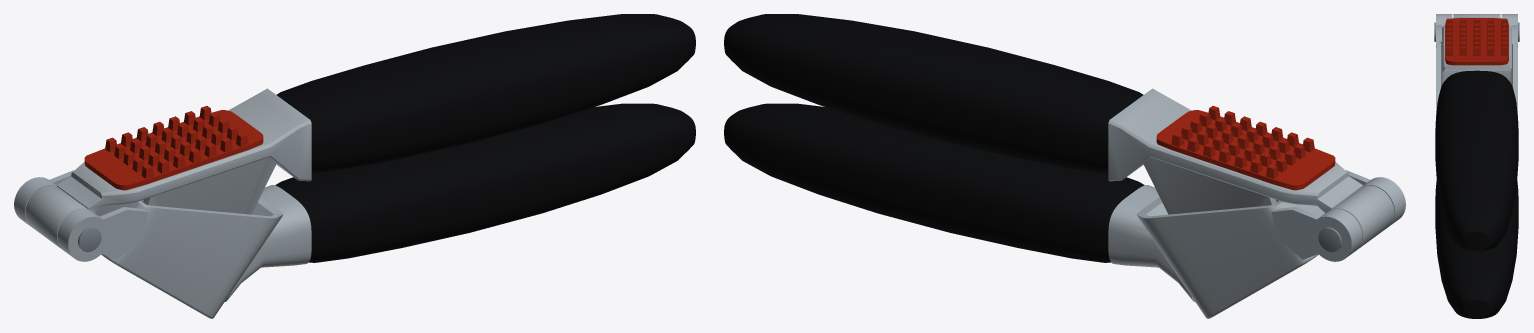
3 views of the same model, side by side, from view 1: azimuth 30°, elevation 25°; view 2: azimuth 150°, elevation 25°; view 3: azimuth 270°, elevation 25° (orthographic). The views are drawn at different scales.
Visible parts, largest first — view 1: part_000_Upper_grip_sleeve, part_003_Lower_grip_sleeve, part_005_Chamber_arm, part_001_Plunger_arm, part_004_Cleaner_plate_and_pegs; view 2: part_000_Upper_grip_sleeve, part_003_Lower_grip_sleeve, part_005_Chamber_arm, part_001_Plunger_arm, part_004_Cleaner_plate_and_pegs; view 3: part_000_Upper_grip_sleeve, part_003_Lower_grip_sleeve, part_004_Cleaner_plate_and_pegs, part_005_Chamber_arm, part_001_Plunger_arm, part_002_Pivot_pin.
Boxes of the visible parts, left/top/right/bottom form: part_000_Upper_grip_sleeve: left=276, top=14, right=695, bottom=173; part_003_Lower_grip_sleeve: left=275, top=103, right=695, bottom=262; part_005_Chamber_arm: left=14, top=170, right=311, bottom=318; part_001_Plunger_arm: left=25, top=88, right=311, bottom=248; part_004_Cleaner_plate_and_pegs: left=84, top=106, right=263, bottom=190; part_000_Upper_grip_sleeve: left=724, top=14, right=1143, bottom=173; part_003_Lower_grip_sleeve: left=724, top=103, right=1144, bottom=262; part_005_Chamber_arm: left=1108, top=170, right=1405, bottom=318; part_001_Plunger_arm: left=1108, top=88, right=1394, bottom=248; part_004_Cleaner_plate_and_pegs: left=1156, top=106, right=1335, bottom=190; part_000_Upper_grip_sleeve: left=1435, top=70, right=1518, bottom=251; part_003_Lower_grip_sleeve: left=1435, top=181, right=1518, bottom=318; part_004_Cleaner_plate_and_pegs: left=1445, top=18, right=1508, bottom=65; part_005_Chamber_arm: left=1436, top=14, right=1517, bottom=116; part_001_Plunger_arm: left=1442, top=14, right=1511, bottom=83; part_002_Pivot_pin: left=1434, top=22, right=1519, bottom=41.
Size of the model in its own units: 0.185 by 0.05 by 0.028.
